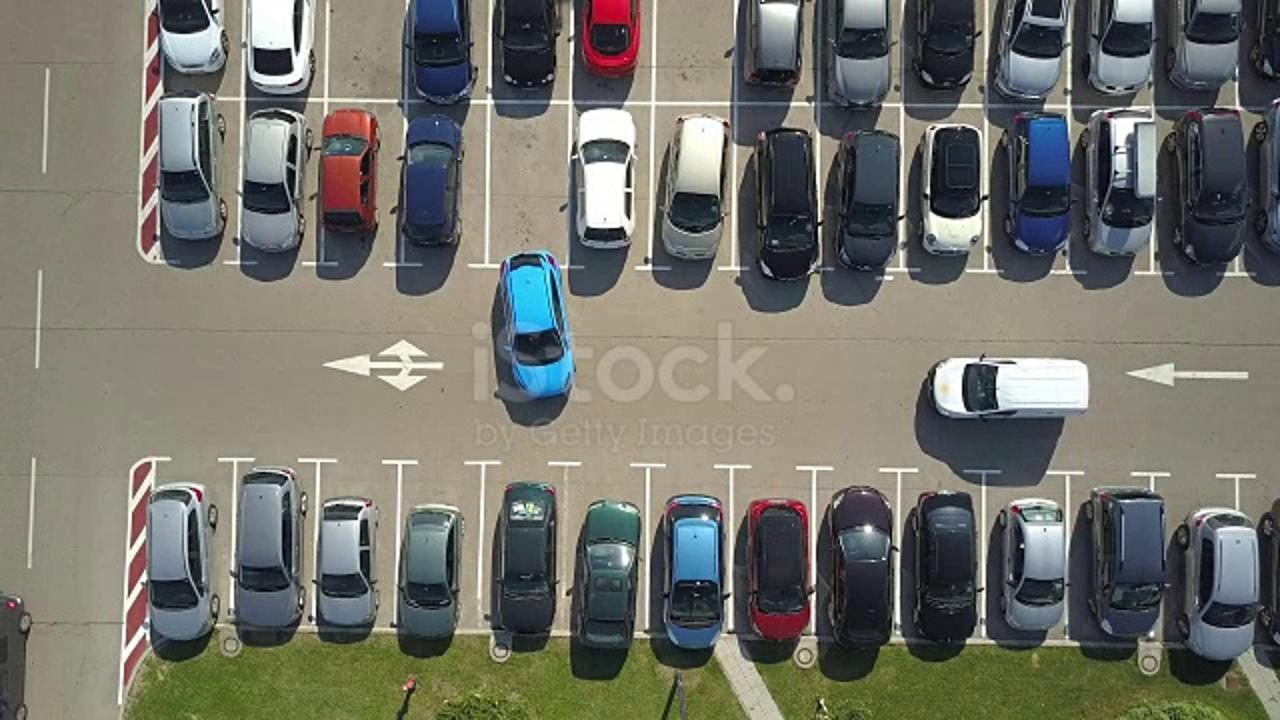car: (133, 479, 224, 643), (564, 499, 656, 655), (484, 477, 576, 633), (489, 247, 579, 400), (734, 489, 820, 643), (231, 465, 308, 633), (909, 486, 989, 645), (751, 125, 824, 286), (572, 104, 648, 253), (915, 113, 990, 262), (394, 498, 469, 646), (662, 107, 730, 270), (1003, 494, 1074, 641), (315, 493, 387, 631), (312, 103, 384, 240)
